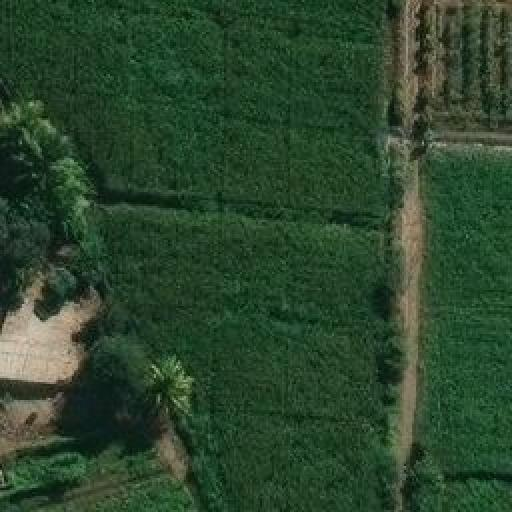manzanas: (0, 279, 93, 396)
